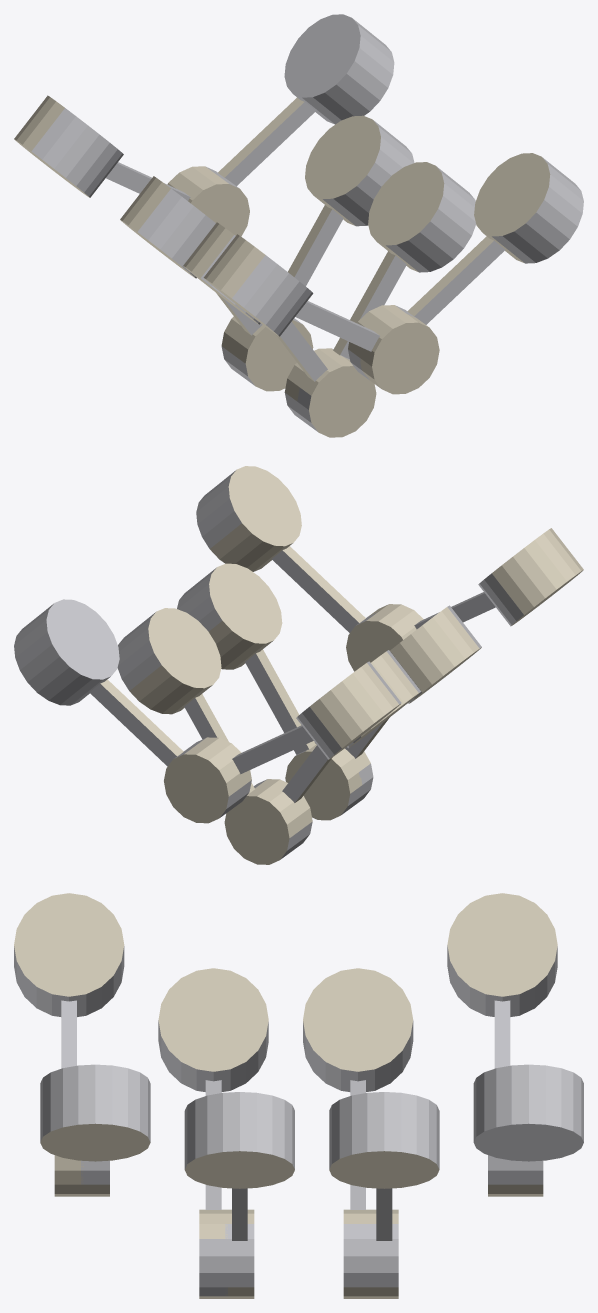
File: engine_v8_pistons_connectingrods.glb
The picture shows the model from 3 angles, top to bottom: view 1: azimuth 30°, elevation 25°; view 2: azimuth 150°, elevation 25°; view 3: azimuth 270°, elevation 25°; orthographic projection. The views are drawn at different scales.
Parts seen in each view (by area): view 1: Engine_V8_Pistons_ConnectingRods; view 2: Engine_V8_Pistons_ConnectingRods; view 3: Engine_V8_Pistons_ConnectingRods.
Part boxes in pixels (<box>): Engine_V8_Pistons_ConnectingRods: <box>14,14,583,437</box>; Engine_V8_Pistons_ConnectingRods: <box>14,466,583,864</box>; Engine_V8_Pistons_ConnectingRods: <box>14,893,583,1298</box>.
Size of the model in its own units: 0.3768 by 0.2654 by 0.434.
